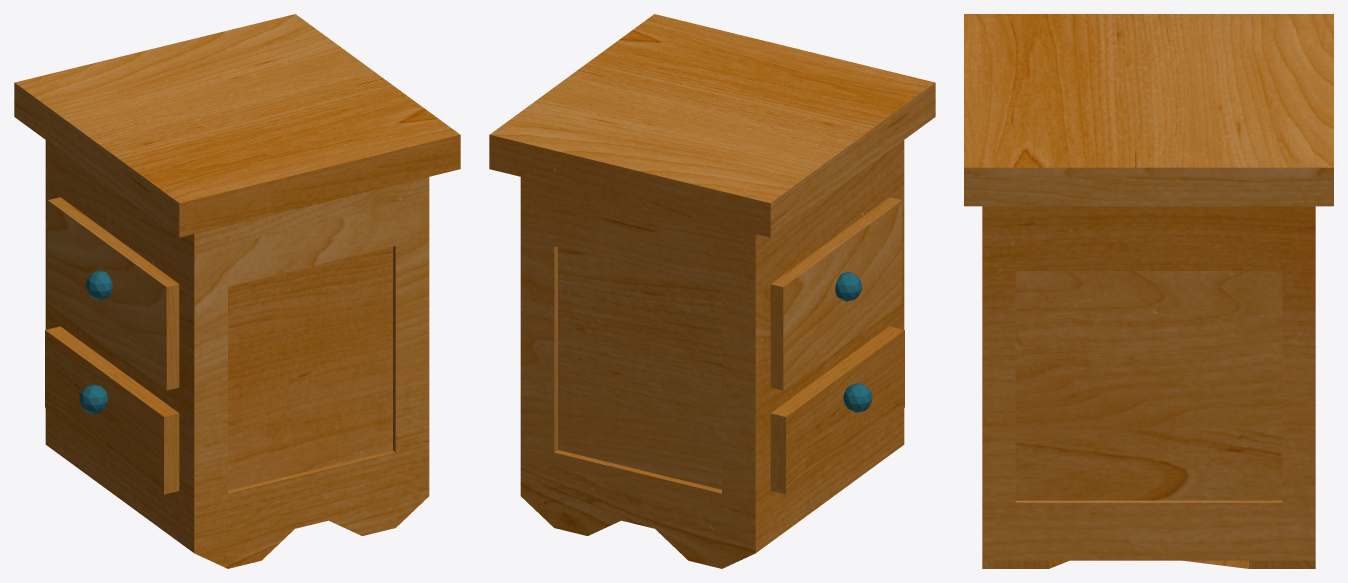
File: meubletiroir.fbx
The picture shows the model from 3 angles, left to right: view 1: azimuth 30°, elevation 25°; view 2: azimuth 150°, elevation 25°; view 3: azimuth 270°, elevation 25°; orthographic projection. The views are drawn at different scales.
Visible parts, largest first — view 1: Cube, Icosphere, Icosphere.001; view 2: Cube, Icosphere, Icosphere.001; view 3: Cube.
Part boxes in pixels (left/top/right/bottom): Cube: left=14, top=14, right=460, bottom=568; Icosphere: left=79, top=384, right=108, bottom=413; Icosphere.001: left=85, top=270, right=112, bottom=299; Cube: left=489, top=14, right=935, bottom=568; Icosphere: left=843, top=383, right=872, bottom=412; Icosphere.001: left=835, top=272, right=862, bottom=301; Cube: left=964, top=14, right=1333, bottom=568.
Bounding box in the file's own units: 253 × 313 × 243.
